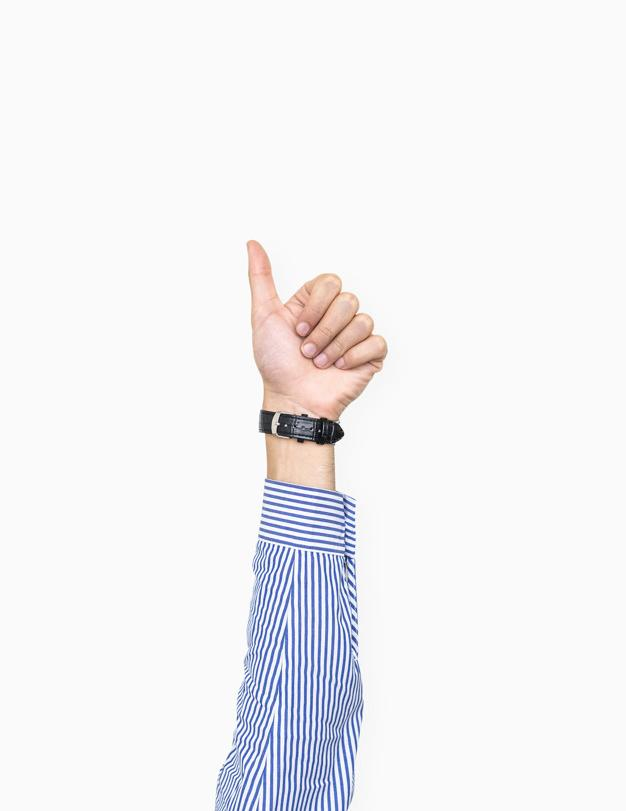thumbsup: (247, 239, 387, 374)
